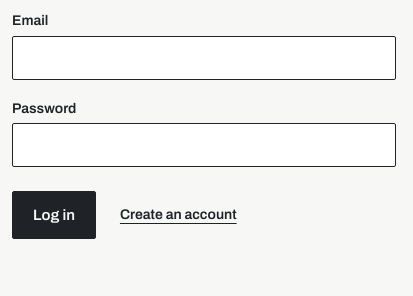
Test case: auth forms keep what was typed after a rejected submit › login: keeps the email, empties the password, shows the error
In the field labelled "Email": (204, 58) [12, 36, 396, 80], type "sam@example.com"
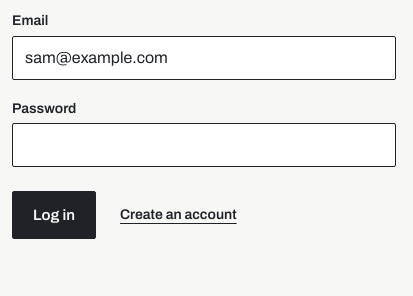
In the password field labelled "Password": (204, 145) [12, 123, 396, 167], type "not-the-password"
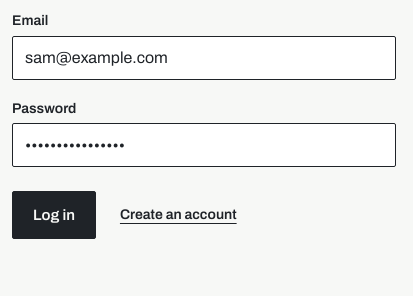
Submit the form labelled "Email"
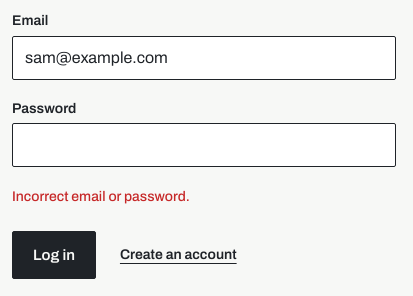
Expected: the field labelled "Email" holds "sam@example.com", [12, 36, 396, 80]
Expected: the message reads "Incorrect email or password.", [12, 189, 190, 204]
Expected: the password field labelled "Password" is empty, [12, 123, 396, 167]
